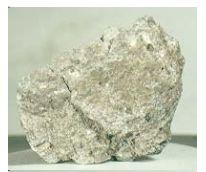Breccia: (18, 23, 181, 164)
